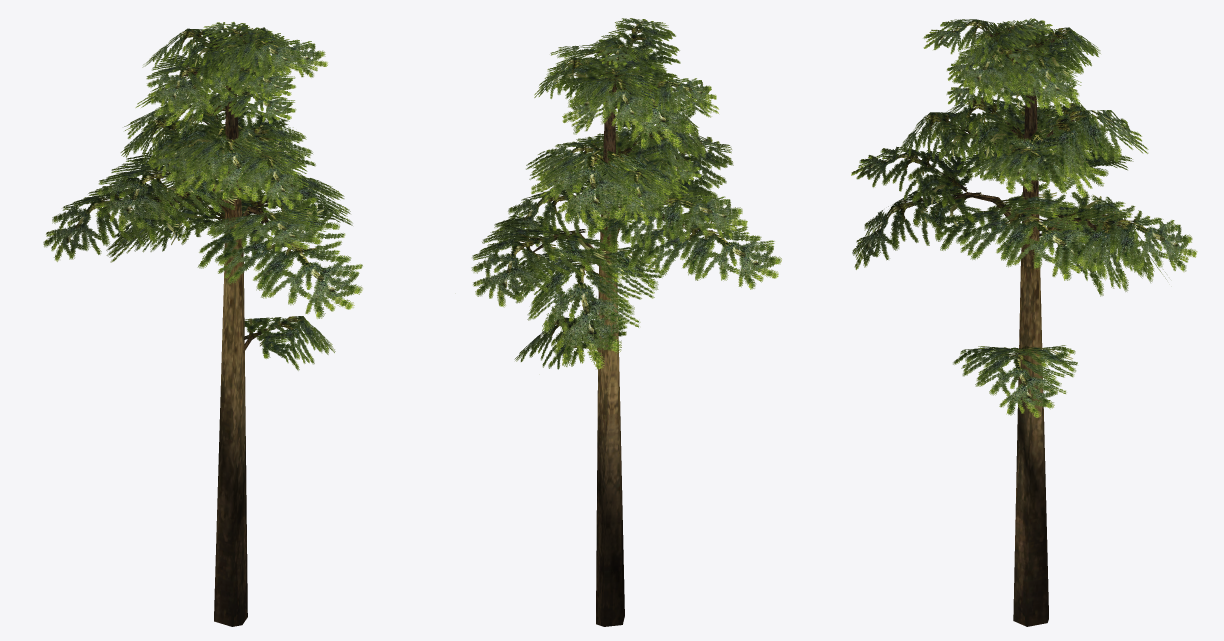
The model's file is cedar_atlas_3.glb.
3 renders of one model, left to right at view 1: azimuth 30°, elevation 25°; view 2: azimuth 150°, elevation 25°; view 3: azimuth 270°, elevation 25°, orthographic. The views are drawn at different scales.
Size of the model in its own units: 17.43 by 30.85 by 17.24.
Materials: 1 (1 with a texture image).
